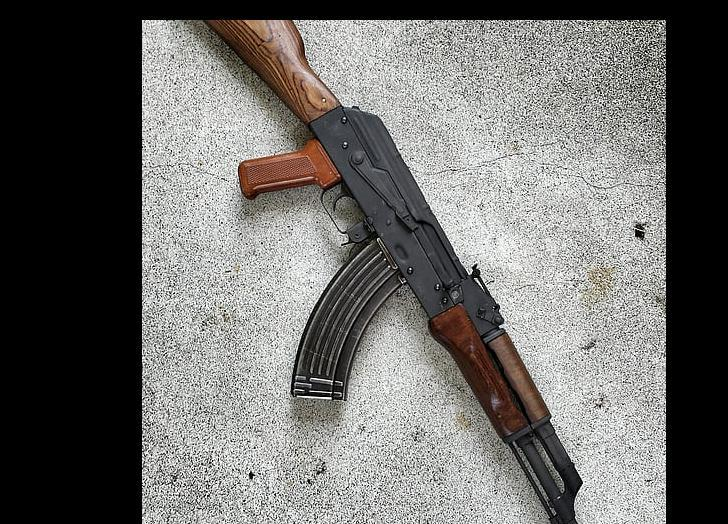larga: (203, 19, 586, 524)
